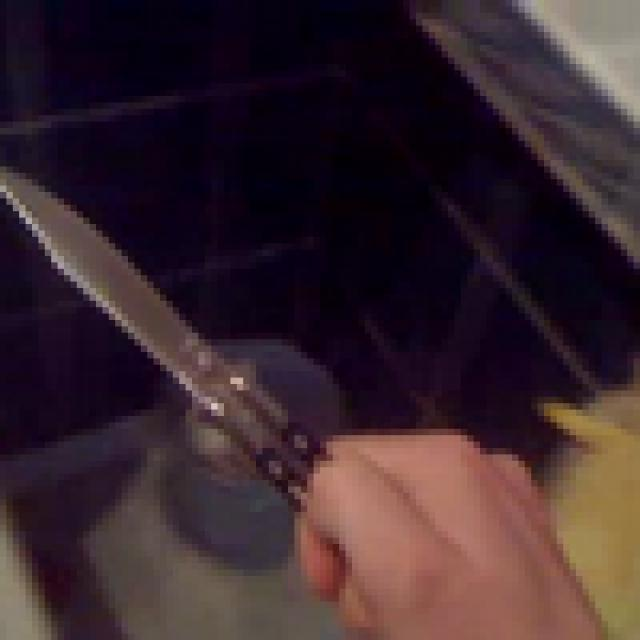Knife: (0, 147, 410, 608)
